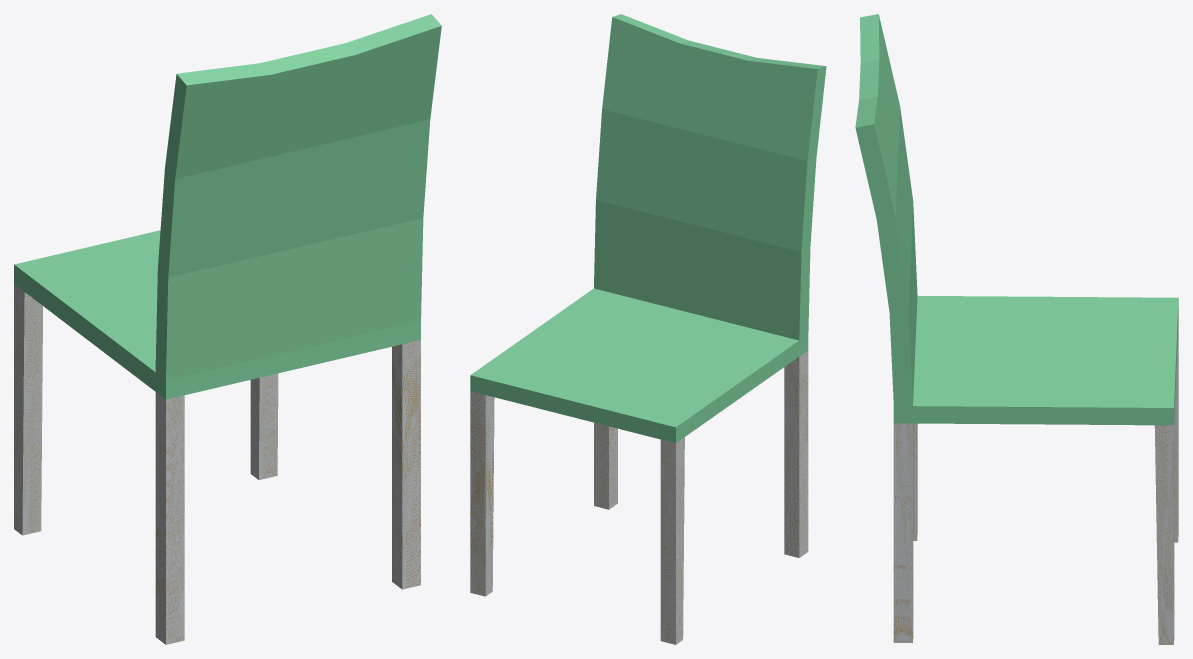
Rendered from chair1.fbx.
3 views of the same model, side by side, from view 1: azimuth 30°, elevation 25°; view 2: azimuth 150°, elevation 25°; view 3: azimuth 270°, elevation 25° (orthographic). The views are drawn at different scales.
Parts seen in each view (by area): view 1: instance_13_ID430; view 2: instance_13_ID430; view 3: instance_13_ID430.
Boxes of the visible parts, <box> form: instance_13_ID430: <box>14,14,441,644</box>; instance_13_ID430: <box>470,14,826,644</box>; instance_13_ID430: <box>855,14,1178,644</box>.
Size of the model in its own units: 44.1 by 94.63 by 53.45.
